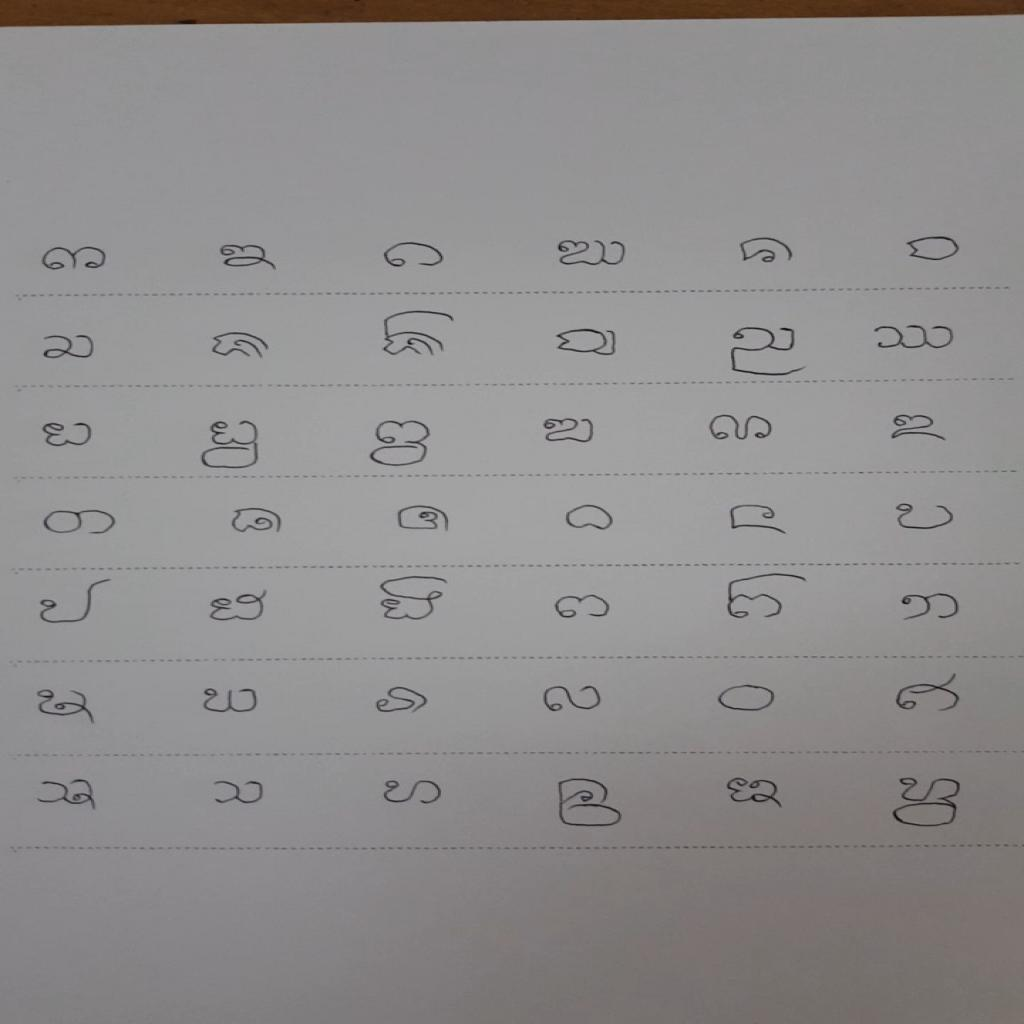LN001: (37, 245, 112, 275)
LN002: (216, 241, 281, 273)
LN003: (378, 241, 451, 272)
LN004: (553, 237, 631, 271)
LN005: (732, 235, 798, 268)
LN006: (901, 233, 965, 265)
LN007: (38, 332, 102, 363)
LN008: (208, 329, 276, 363)
LN009: (379, 308, 462, 362)
LN010: (552, 327, 622, 360)
LN011: (726, 324, 812, 380)
LN012: (869, 323, 962, 353)
LN013: (38, 419, 99, 451)
LN014: (198, 418, 267, 473)
LN015: (364, 417, 439, 471)
LN016: (538, 415, 603, 447)
LN017: (704, 412, 780, 446)
LN018: (884, 411, 956, 446)
LN019: (38, 507, 124, 540)
LN020: (227, 505, 290, 537)
LN021: (392, 503, 455, 536)
LN022: (562, 503, 622, 534)
LN023: (722, 501, 795, 539)
LN024: (889, 500, 960, 534)
LN025: (36, 576, 116, 628)
LN026: (206, 588, 272, 626)
LN027: (376, 574, 452, 625)
LN028: (549, 592, 615, 623)
LN029: (723, 571, 813, 623)
LN030: (895, 592, 966, 627)
LN031: (30, 686, 102, 728)
LN032: (198, 685, 263, 717)
LN033: (369, 684, 433, 718)
LN034: (538, 683, 607, 717)
LN035: (713, 683, 782, 716)
LN036: (891, 671, 967, 715)
LN037: (31, 776, 105, 815)
LN038: (204, 777, 274, 809)
LN039: (375, 777, 450, 809)
LN040: (552, 775, 630, 831)
LN041: (723, 775, 791, 812)
LN042: (889, 775, 968, 831)
